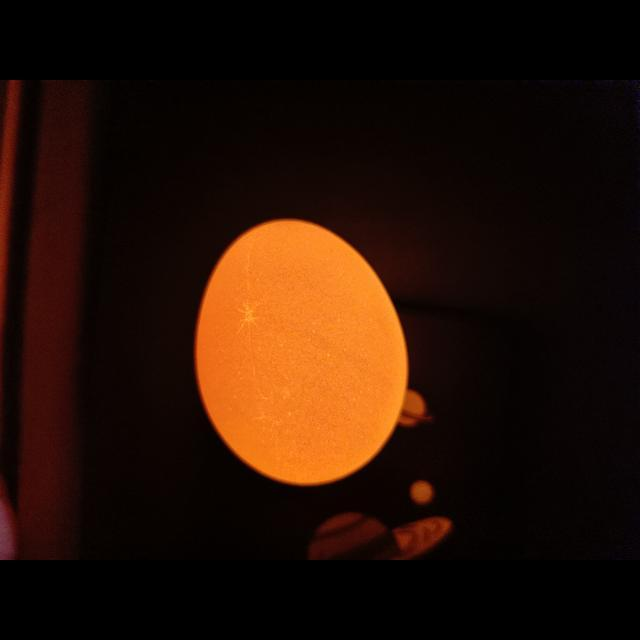AA - Premium: (195, 219, 408, 485)
